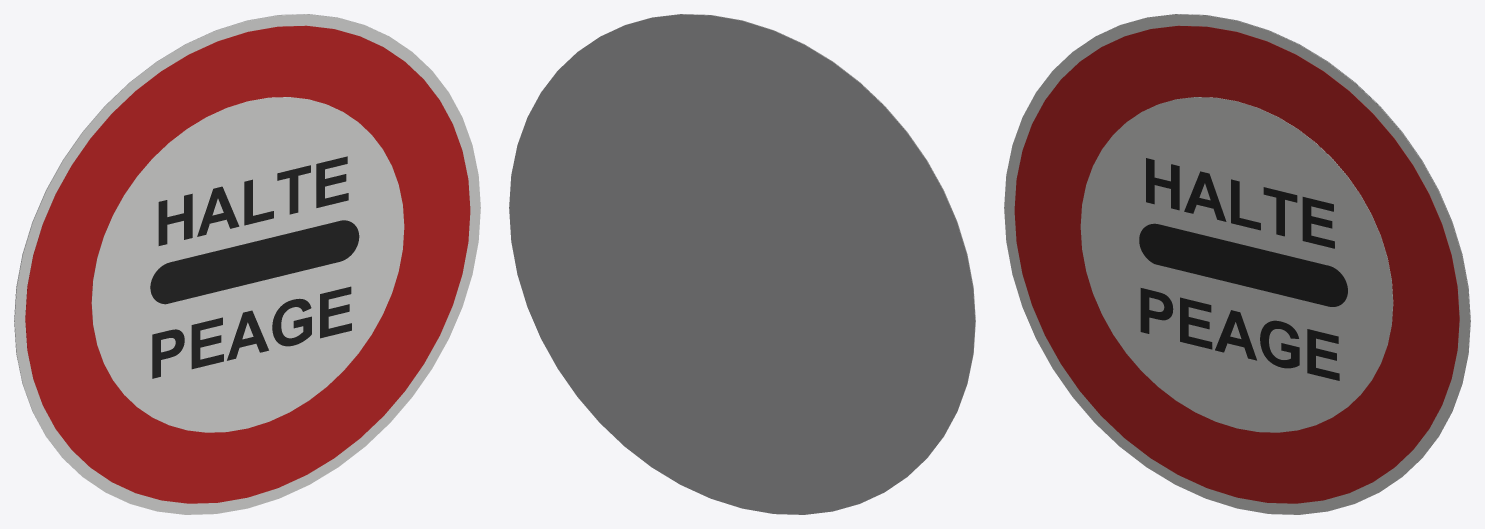
3 views of the same model, side by side, from view 1: azimuth 30°, elevation 25°; view 2: azimuth 150°, elevation 25°; view 3: azimuth 330°, elevation 25° (orthographic).
Visible parts, largest first — view 1: B5c_p01, B5c_p02, B5c_p00, B5c_p03, B5c_p07, B5c_p05, B5c_p09, B5c_p13, B5c_p08, B5c_p10, B5c_p06, B5c_p04 (+3 smaller); view 2: B5c_dos, B5c_p00; view 3: B5c_p01, B5c_p02, B5c_p00, B5c_p03, B5c_p07, B5c_p13, B5c_p05, B5c_p08, B5c_p09, B5c_p10, B5c_p06, B5c_p04 (+3 smaller).
Boxes of the visible parts, bbox=[...] form: B5c_p01: bbox=[25, 25, 470, 503]; B5c_p02: bbox=[91, 97, 404, 432]; B5c_p00: bbox=[14, 14, 480, 514]; B5c_p03: bbox=[150, 220, 359, 304]; B5c_p07: bbox=[272, 298, 311, 346]; B5c_p05: bbox=[191, 317, 223, 369]; B5c_p09: bbox=[158, 193, 192, 245]; B5c_p13: bbox=[316, 156, 348, 207]; B5c_p08: bbox=[320, 286, 351, 338]; B5c_p10: bbox=[197, 186, 239, 236]; B5c_p06: bbox=[227, 310, 268, 360]; B5c_p04: bbox=[152, 329, 184, 378]; B5c_dos: bbox=[509, 14, 975, 514]; B5c_p00: bbox=[604, 14, 975, 473]; B5c_p01: bbox=[1014, 25, 1459, 503]; B5c_p02: bbox=[1080, 97, 1393, 432]; B5c_p00: bbox=[1004, 14, 1470, 514]; B5c_p03: bbox=[1139, 223, 1347, 306]; B5c_p07: bbox=[1260, 320, 1299, 368]; B5c_p13: bbox=[1302, 197, 1334, 248]; B5c_p05: bbox=[1180, 297, 1212, 349]; B5c_p08: bbox=[1307, 329, 1339, 380]; B5c_p09: bbox=[1146, 158, 1179, 210]; B5c_p10: bbox=[1184, 171, 1226, 221]; B5c_p06: bbox=[1215, 310, 1256, 360]; B5c_p04: bbox=[1140, 288, 1173, 333].
Bounding box in the file's own units: 0.85 × 0.8498 × 0.0071.
